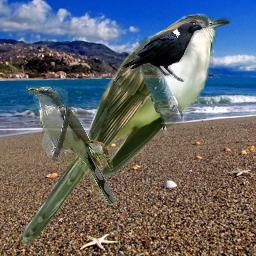Crow: (121, 23, 203, 82)
Cuckoo: (18, 12, 232, 251), (26, 86, 117, 206), (84, 140, 113, 171)
